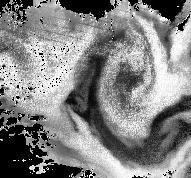AE: (63, 14, 171, 149)
